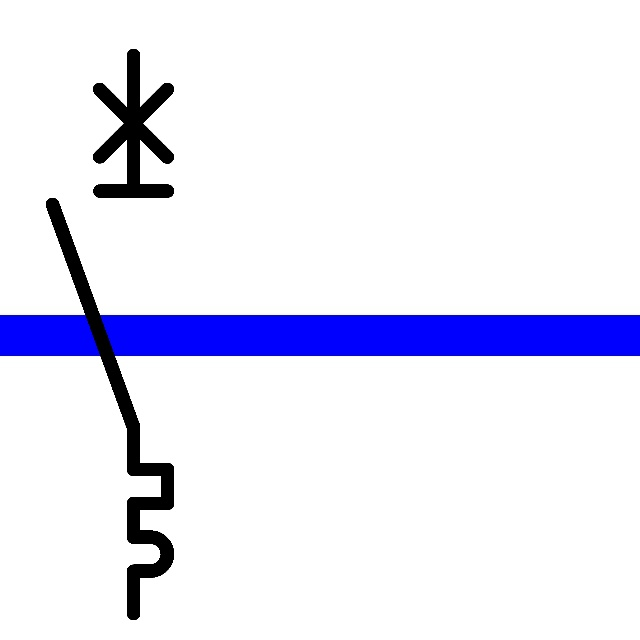interruptor_termomagnetico: (38, 41, 182, 628)
